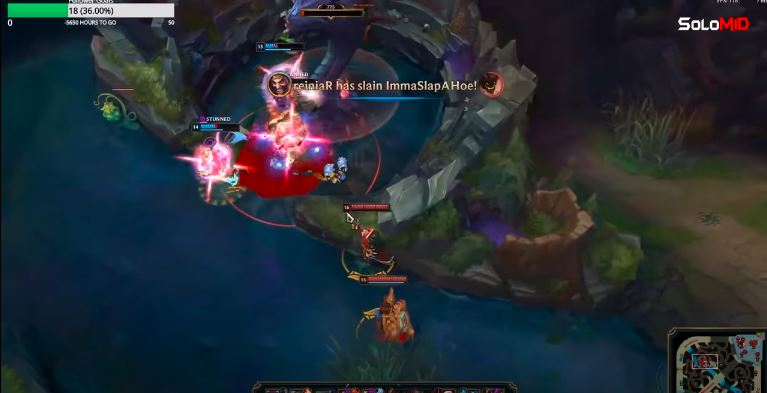bar: (190, 119, 244, 135), (357, 272, 411, 287), (265, 76, 320, 90), (252, 39, 309, 52), (342, 201, 394, 215)
